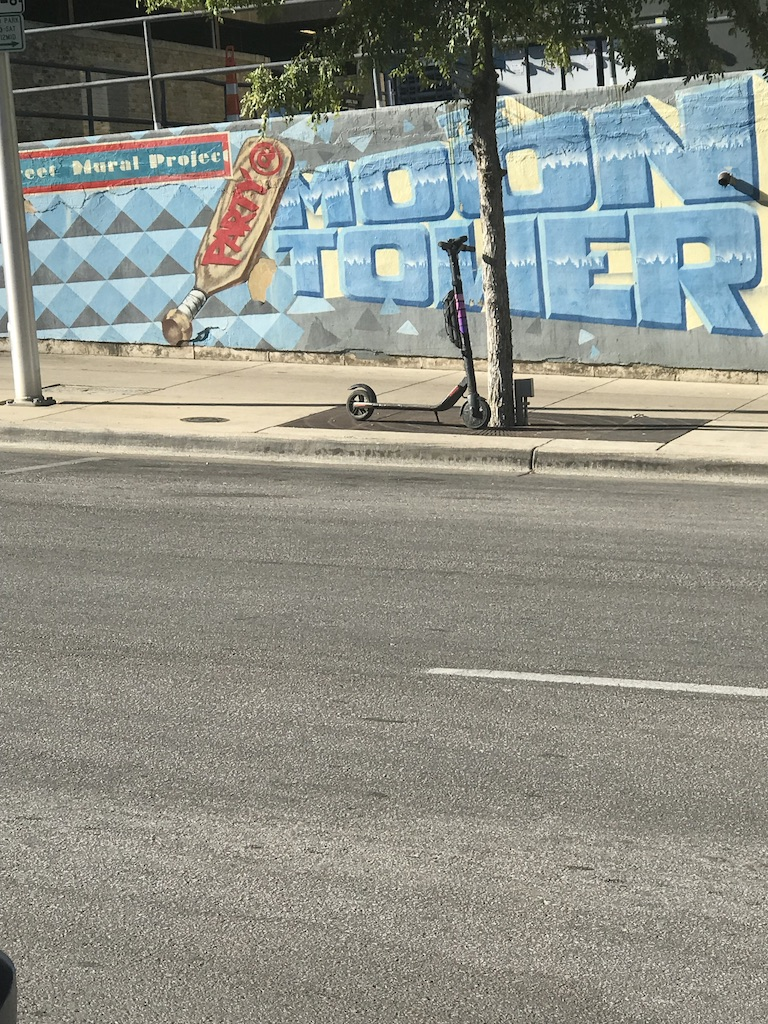scooter: (347, 236, 492, 430)
